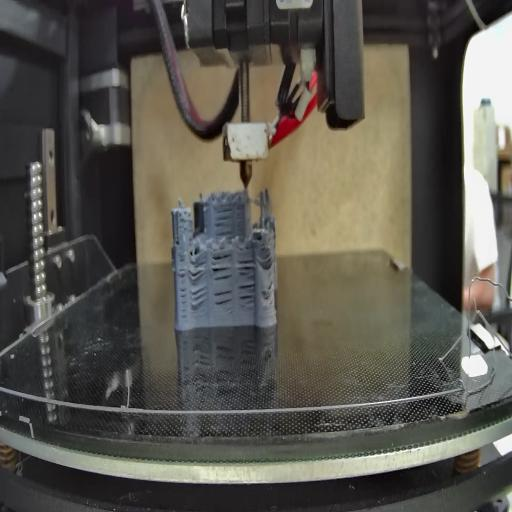cracks: (176, 255, 188, 320), (212, 251, 234, 282), (214, 206, 233, 235), (239, 280, 256, 311), (190, 286, 209, 310), (189, 260, 209, 282), (215, 288, 236, 308), (238, 253, 256, 275), (263, 276, 274, 304), (260, 251, 275, 268), (174, 232, 182, 247)
